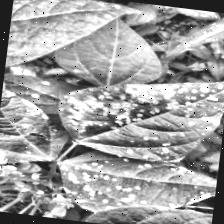Bean Rust: (47, 54, 224, 169), (42, 140, 218, 224), (0, 79, 69, 167)
